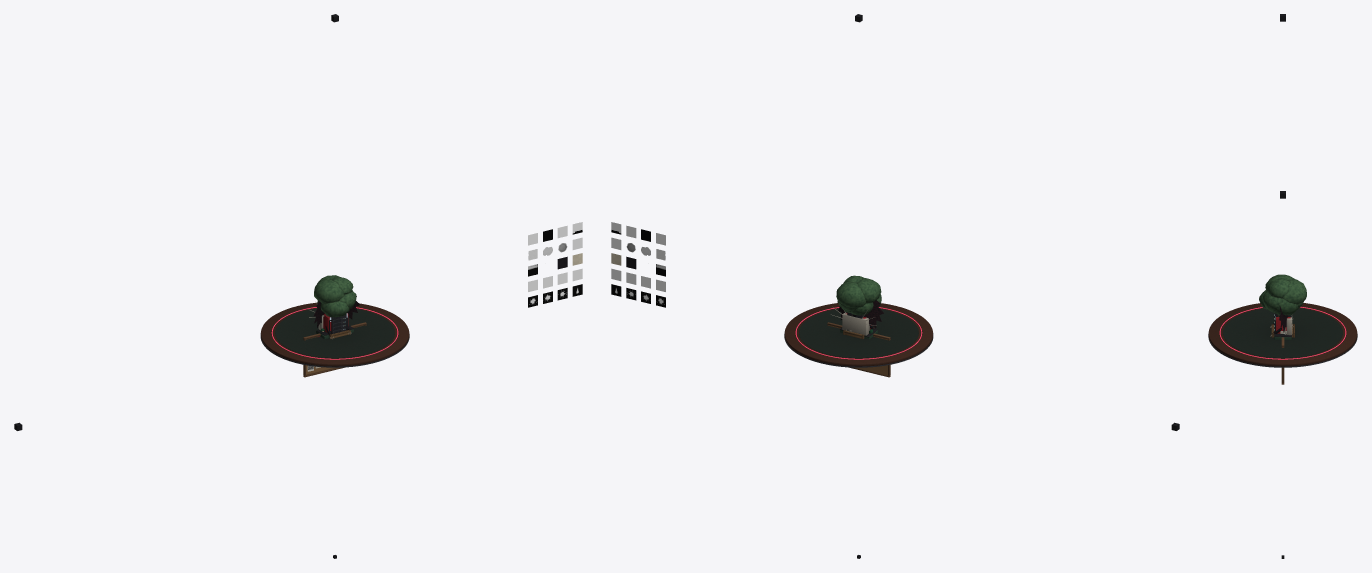
The model's file is InkboundModels.fbx.
3 views of the same model, side by side, from view 1: azimuth 30°, elevation 25°; view 2: azimuth 150°, elevation 25°; view 3: azimuth 270°, elevation 25° (orthographic).
Parts seen in each view (by area): view 1: MeetingTable, Tree; view 2: MeetingTable, Tree; view 3: MeetingTable, Tree, MeetingTable_Glow.
Boxes of the visible parts, bbox=[...] form: MeetingTable: bbox=[260, 302, 409, 367]; Tree: bbox=[314, 275, 356, 317]; MeetingTable: bbox=[784, 303, 933, 367]; Tree: bbox=[836, 275, 881, 315]; MeetingTable: bbox=[1208, 303, 1357, 367]; Tree: bbox=[1259, 274, 1306, 317]; MeetingTable_Glow: bbox=[1219, 307, 1346, 359].
Size of the model in its own units: 114 by 105 by 26.1.
95 materials, 53 textured.
